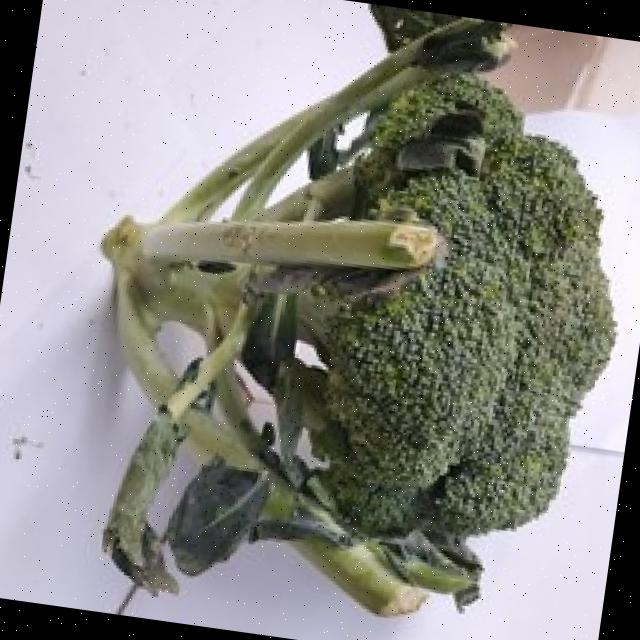Broccoli: (299, 79, 615, 537), (299, 77, 613, 535)
